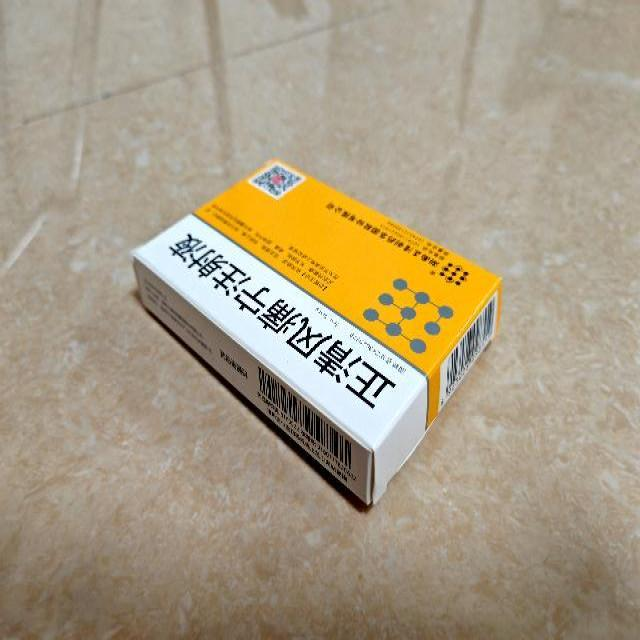box: (130, 158, 506, 511)
